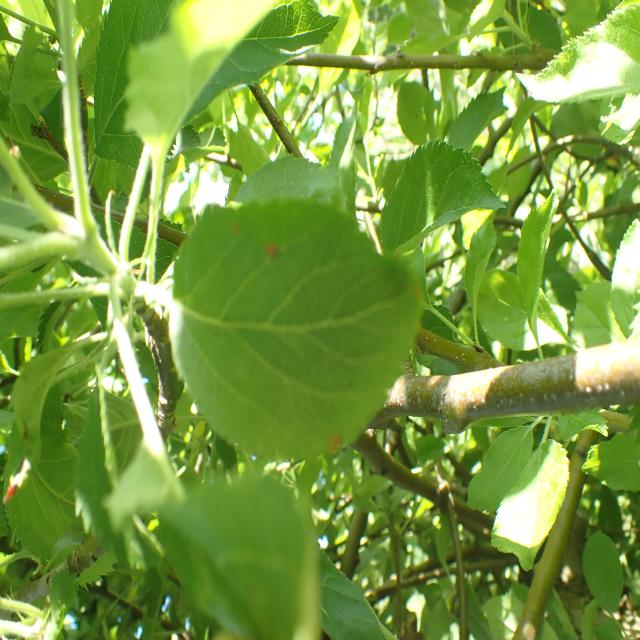Black Rot: (316, 429, 362, 469), (256, 224, 285, 272)
